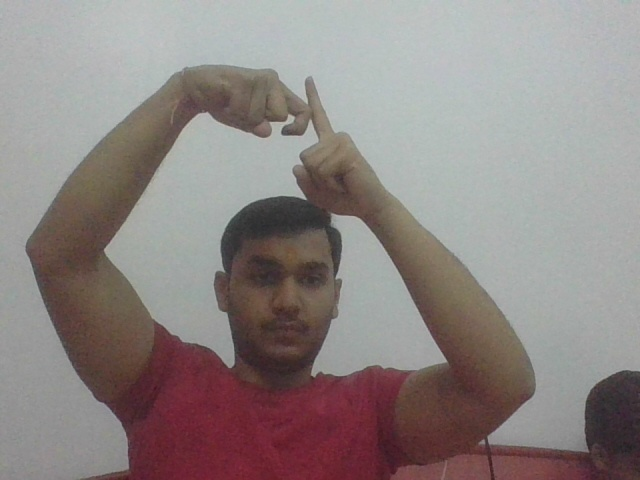K: (265, 67, 349, 155)
